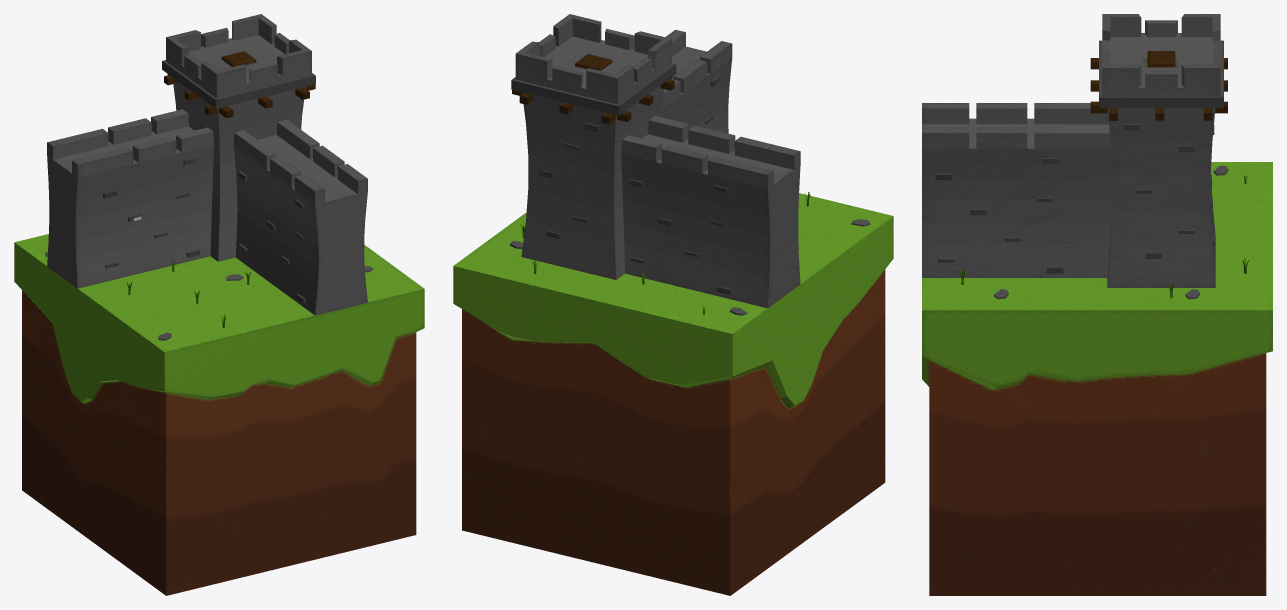
The model's file is Concepts_28.fbx.
3 renders of one model, left to right at view 1: azimuth 30°, elevation 25°; view 2: azimuth 150°, elevation 25°; view 3: azimuth 270°, elevation 25°, orthographic. The views are drawn at different scales.
Parts seen in each view (by area): view 1: Cube.243, Cube.235; view 2: Cube.243, Cube.235; view 3: Cube.243, Cube.235, Cube.322.
Boxes of the visible parts, bbox=[...] form: Cube.243: bbox=[14, 234, 424, 595]; Cube.235: bbox=[47, 14, 367, 315]; Cube.243: bbox=[453, 193, 893, 595]; Cube.235: bbox=[511, 14, 800, 308]; Cube.243: bbox=[922, 162, 1272, 595]; Cube.235: bbox=[922, 14, 1227, 287]; Cube.322: bbox=[959, 165, 1248, 299].
Size of the model in its own units: 301 by 484 by 301.
